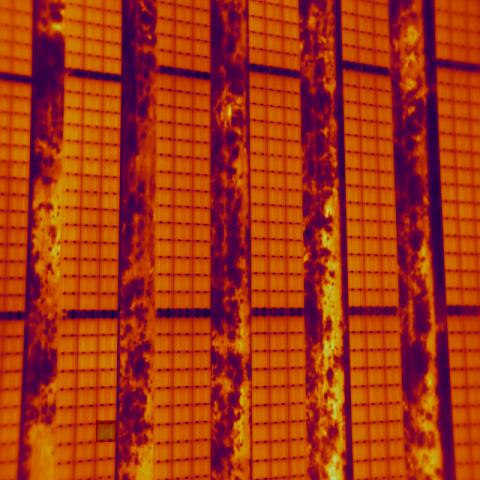fault: (96, 420, 116, 442)
